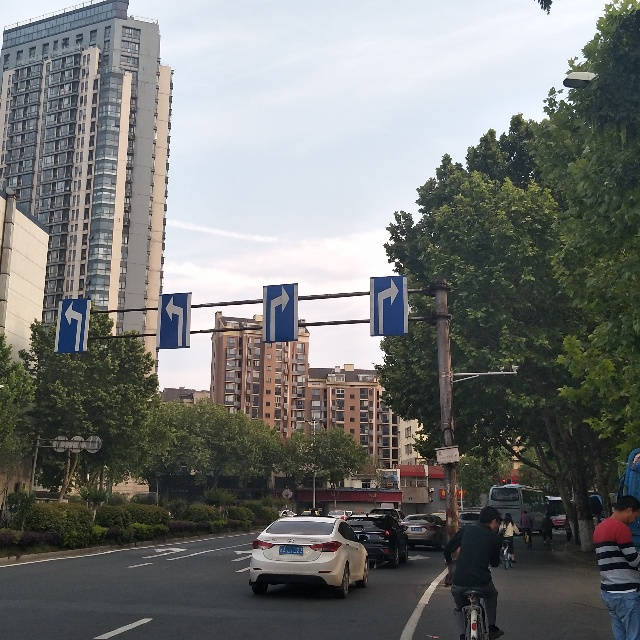left: (58, 297, 91, 356), (158, 296, 193, 348)
right: (372, 276, 408, 339), (265, 284, 299, 346)
